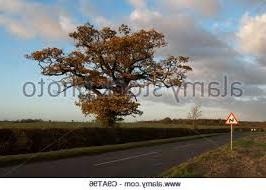double_bend_right: (223, 111, 238, 123)
